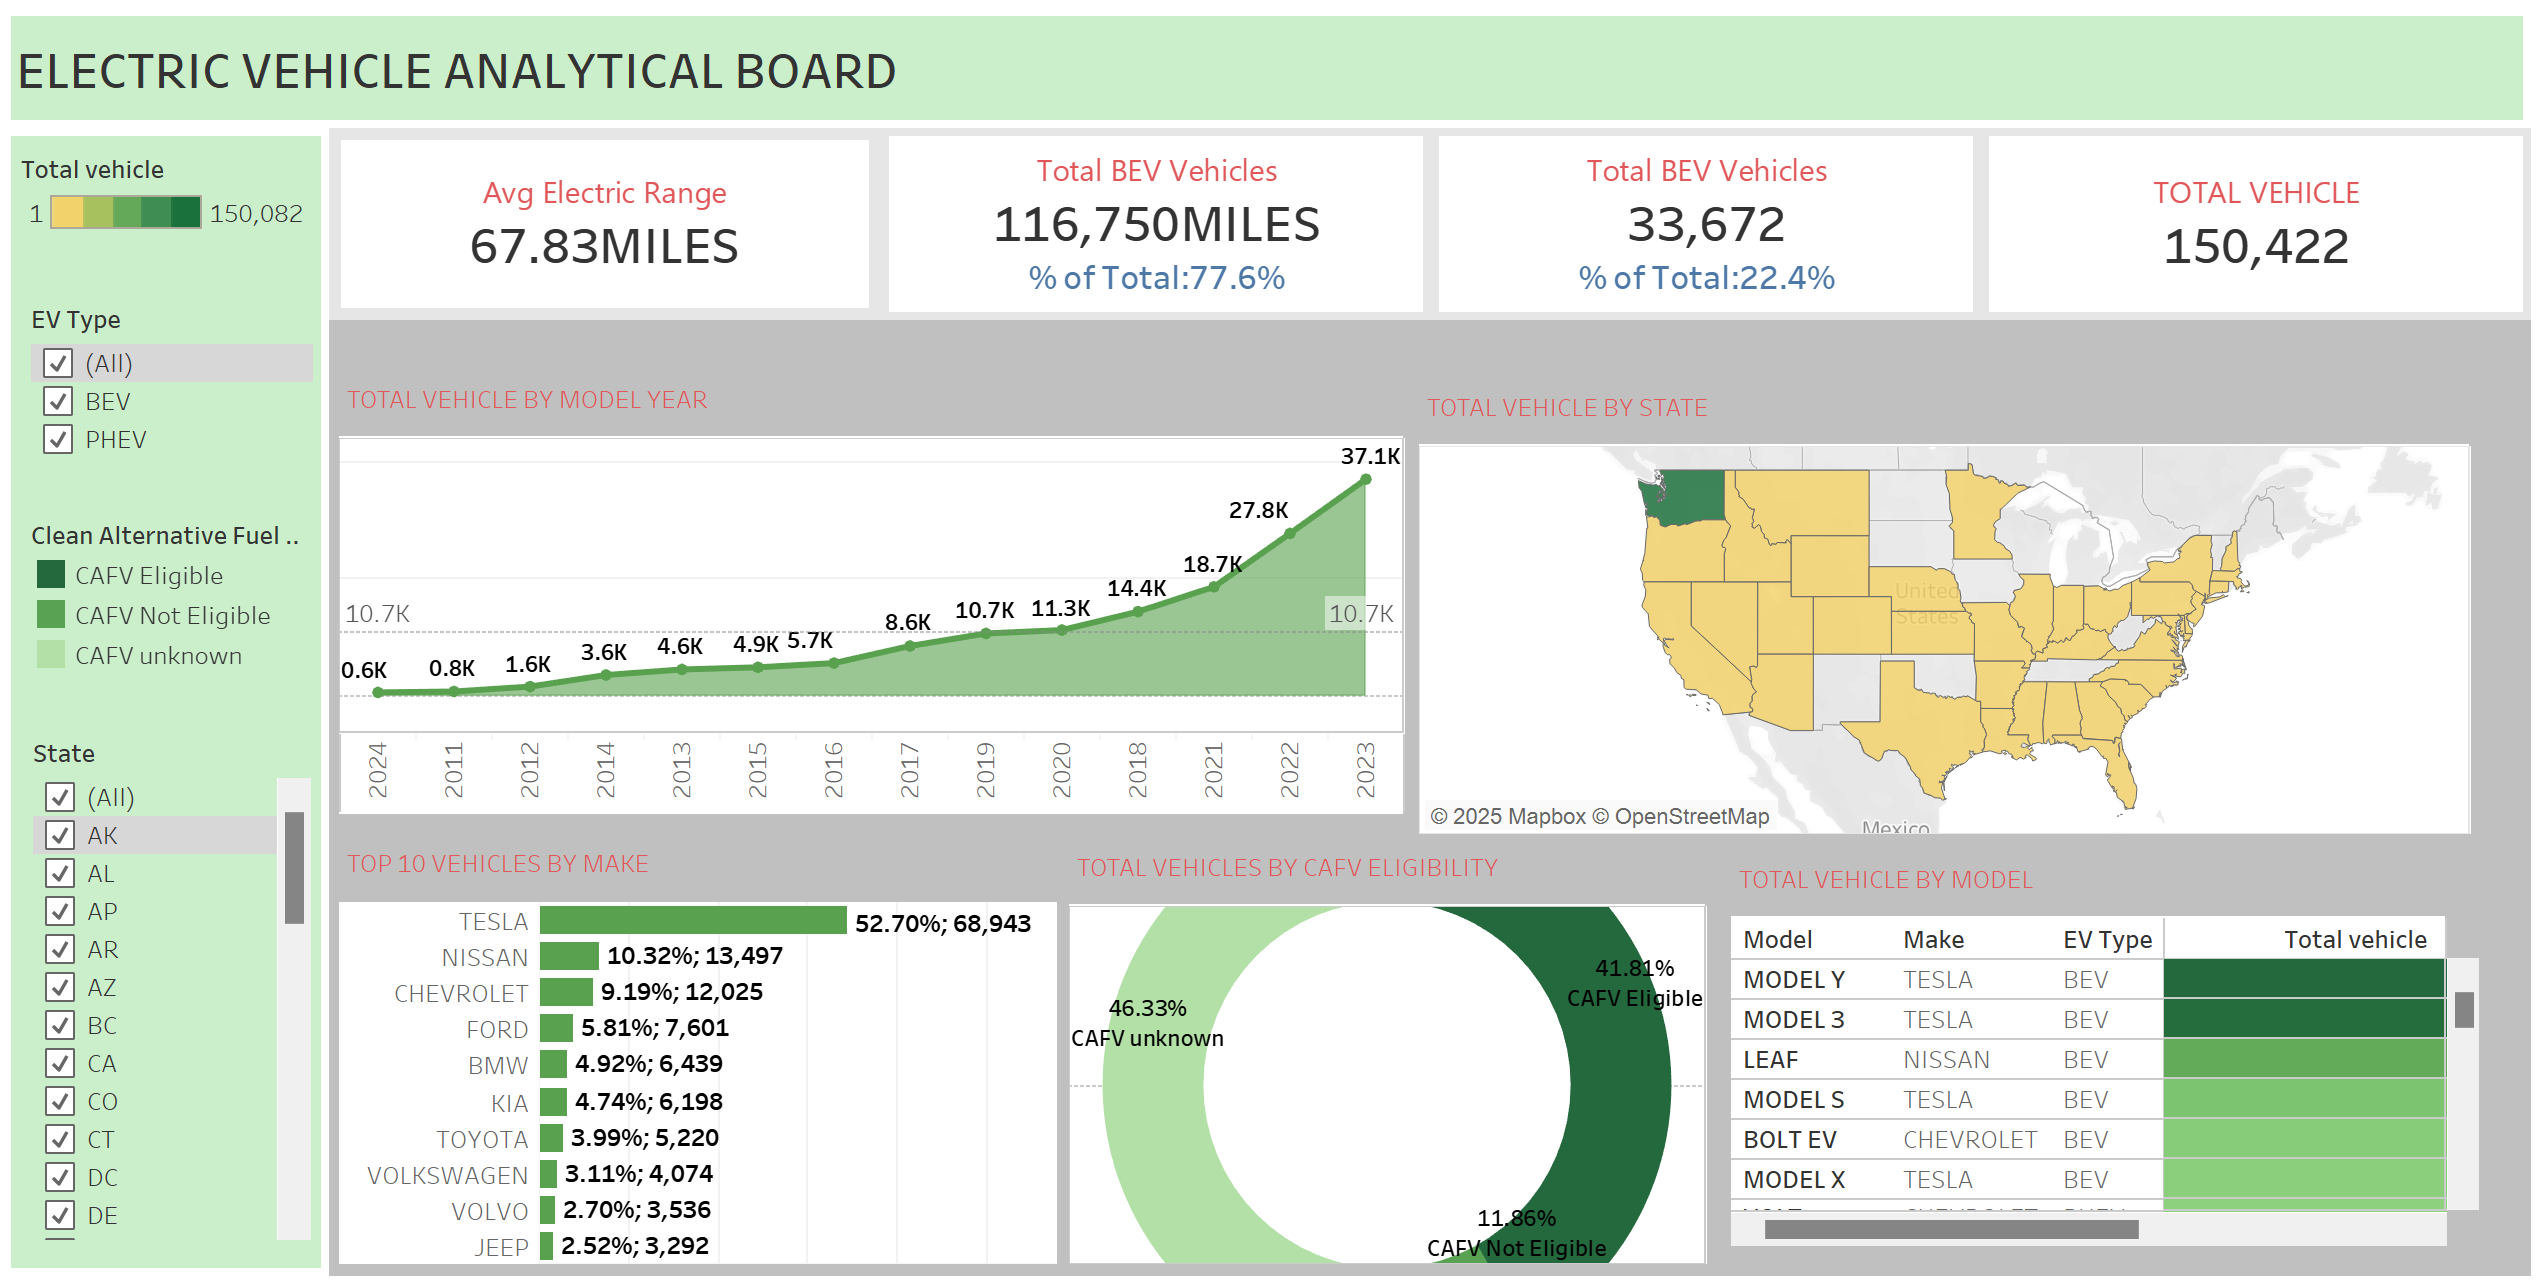

The dashboard page shown, as its layout file describes it:
{"tool":"tableau","page":{"name":"ELECTRIC VEHICLE ANALYTICAL BOARD","canvas":[1000,1000],"units":"permille","ordinal":0},"visuals":[{"type":"title","box":[7.5,15.2,985,91.6]},{"type":"worksheet","title":"avg electric range","mark":"Automatic","box":[134.7,106.1,215.2,181.8]},{"type":"worksheet","title":"Total BEV Vehicles","mark":"Automatic","box":[349.9,106.1,214.2,181.8]},{"type":"worksheet","title":"Total PHEV Vehicles ","mark":"Automatic","box":[564.1,106.1,214.2,181.8]},{"type":"worksheet","title":"TOTAL VEHICLE","mark":"Automatic","box":[778.3,106.1,214.2,181.8]},{"type":"legend","title":"TOTAL VEHICLE BY STATE","param":"[federated.18xvtmg0biur8z1494n1p0wn5obc].[usr:Calculation_233061297215414275:qk]","box":[13.1,123.1,114.1,111.7]},{"type":"filter","title":"TOP 10 VEHICLES BY MAKE","param":"[federated.18xvtmg0biur8z1494n1p0wn5obc].[none:Electric Vehicle Type:nk]","box":[16.8,238.6,110.4,147.7]},{"type":"worksheet","title":"TOTAL VEHICLE BY MODEL YEAR ","mark":"Area","rows":["Calculation_233061297215414275","Calculation_233061297215414275"],"cols":["Model Year"],"box":[137.5,293.6,416.3,350.4]},{"type":"worksheet","title":"TOTAL VEHICLE BY STATE","mark":"Multipolygon","box":[559.4,299.2,410.7,348.5]},{"type":"legend","title":"TOTAL VEHICLES BY CAFV ELIGIBILITY","param":"[federated.18xvtmg0biur8z1494n1p0wn5obc].[none:Clean Alternative Fuel Vehicle (C","box":[16.8,405.3,108.5,147.7]},{"type":"filter","title":"TOP 10 VEHICLES BY MAKE","param":"[federated.18xvtmg0biur8z1494n1p0wn5obc].[none:State:nk]","box":[17.8,572,108.5,388.3]},{"type":"worksheet","title":"TOP 10 VEHICLES BY MAKE","mark":"Automatic","rows":["Make"],"cols":["Calculation_233061297215414275"],"box":[137.5,651.5,280.6,327.7]},{"type":"worksheet","title":"TOTAL VEHICLES BY CAFV ELIGIBILITY","mark":"Pie","rows":["Calculation_233061297233817611","Calculation_233061297233817611"],"box":[422.8,653.4,248.8,325.8]},{"type":"worksheet","title":"TOTAL VEHICLE BY MODEL","mark":"Square","rows":["Model","Make","Electric Vehicle Type"],"box":[681,662.9,292.8,301.1]}]}

Visuals, with their boxes on the dashboard's canvas, which has no fixed pixel size, in thousandths of its width and height (x1, y1, x2, y2). These are canvas units, not pixel positions in the 2538x1285 screenshot, which may show the page scaled, cropped or inside an application window:
title: 8:15:992:107
"avg electric range" worksheet: 135:106:350:288
"Total BEV Vehicles" worksheet: 350:106:564:288
"Total PHEV Vehicles " worksheet: 564:106:778:288
"TOTAL VEHICLE" worksheet: 778:106:992:288
"TOTAL VEHICLE BY STATE" legend: 13:123:127:235
"TOP 10 VEHICLES BY MAKE" filter: 17:239:127:386
"TOTAL VEHICLE BY MODEL YEAR " worksheet (Area marks): 138:294:554:644
"TOTAL VEHICLE BY STATE" worksheet (Multipolygon marks): 559:299:970:648
"TOTAL VEHICLES BY CAFV ELIGIBILITY" legend: 17:405:125:553
"TOP 10 VEHICLES BY MAKE" filter: 18:572:126:960
"TOP 10 VEHICLES BY MAKE" worksheet: 138:652:418:979
"TOTAL VEHICLES BY CAFV ELIGIBILITY" worksheet (Pie marks): 423:653:672:979
"TOTAL VEHICLE BY MODEL" worksheet (Square marks): 681:663:974:964
